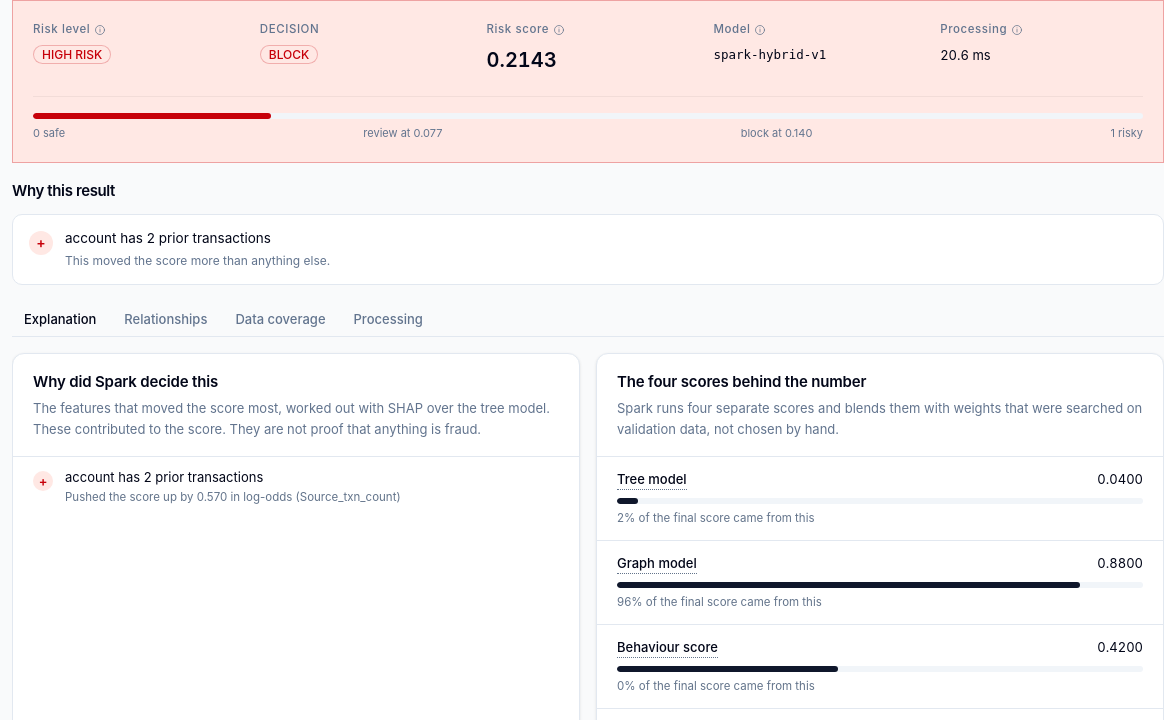
Test: the risk result › says so when nothing is connected instead of leaving the panel blank
Click the tab "Relationships".
click(166, 319)  # box [112, 301, 219, 337]
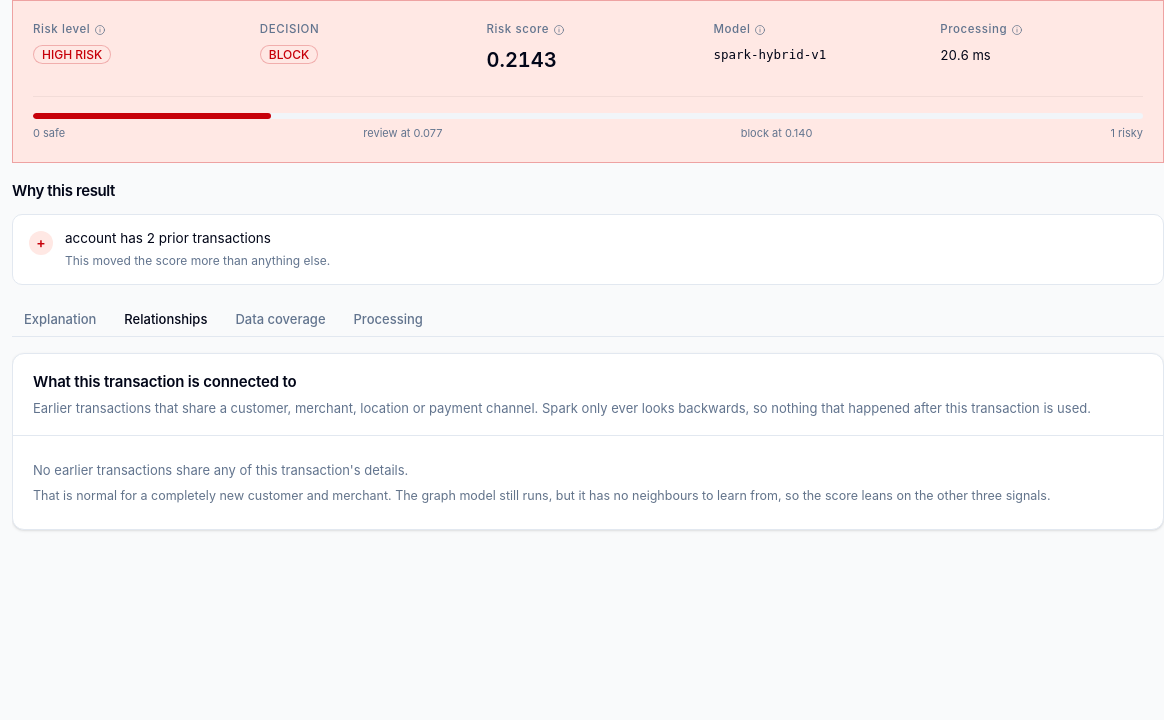
Now the text "No earlier transactions share any of this transaction" is shown, box [33, 462, 408, 478]
